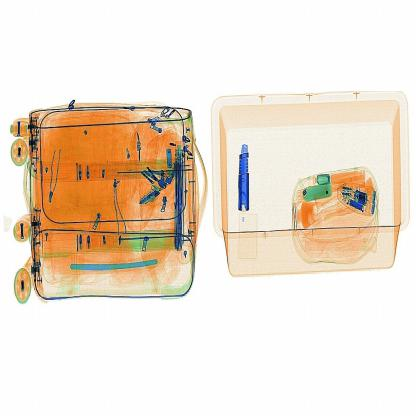pliers: (219, 130, 262, 219)
